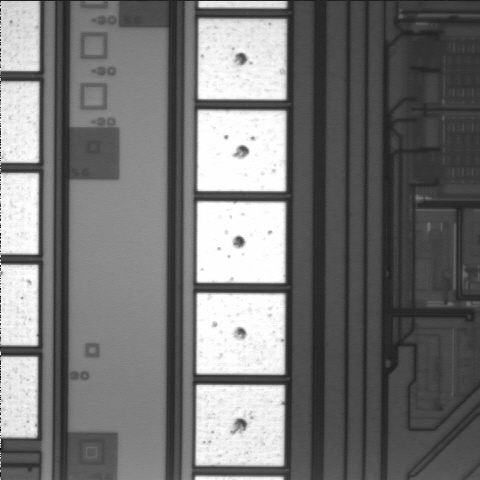pad: (197, 201, 286, 283), (196, 293, 285, 375), (197, 110, 286, 191), (196, 385, 285, 466), (198, 19, 286, 100)
